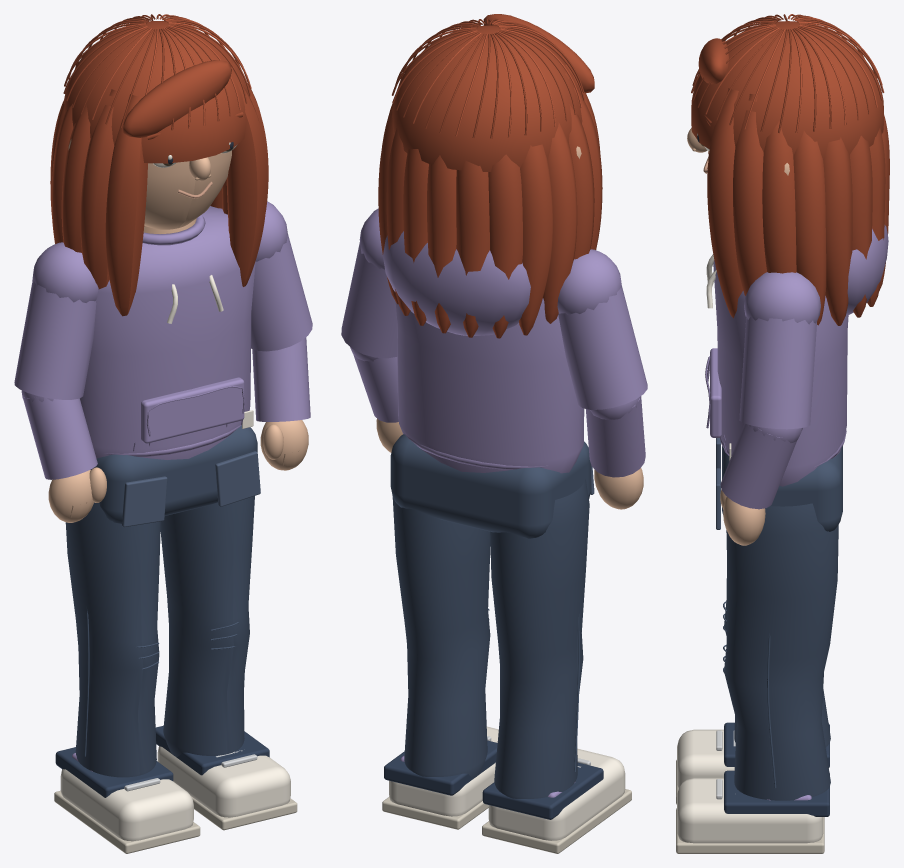
The model's file is compa-zoe.glb.
The picture shows the model from 3 angles, left to right: view 1: azimuth 30°, elevation 25°; view 2: azimuth 150°, elevation 25°; view 3: azimuth 270°, elevation 25°; orthographic projection. The views are drawn at different scales.
Parts seen in each view (by area): view 1: body, head; view 2: body, head; view 3: body, head.
Boxes of the visible parts, x1=… form: body: x1=14, y1=201, x2=312, y2=853; head: x1=50, y1=14, x2=268, y2=316; body: x1=341, y1=208, x2=647, y2=853; head: x1=378, y1=14, x2=602, y2=338; body: x1=676, y1=225, x2=888, y2=853; head: x1=687, y1=14, x2=889, y2=325.
Size of the model in its own units: 0.8052 by 2.05 by 0.5041.
